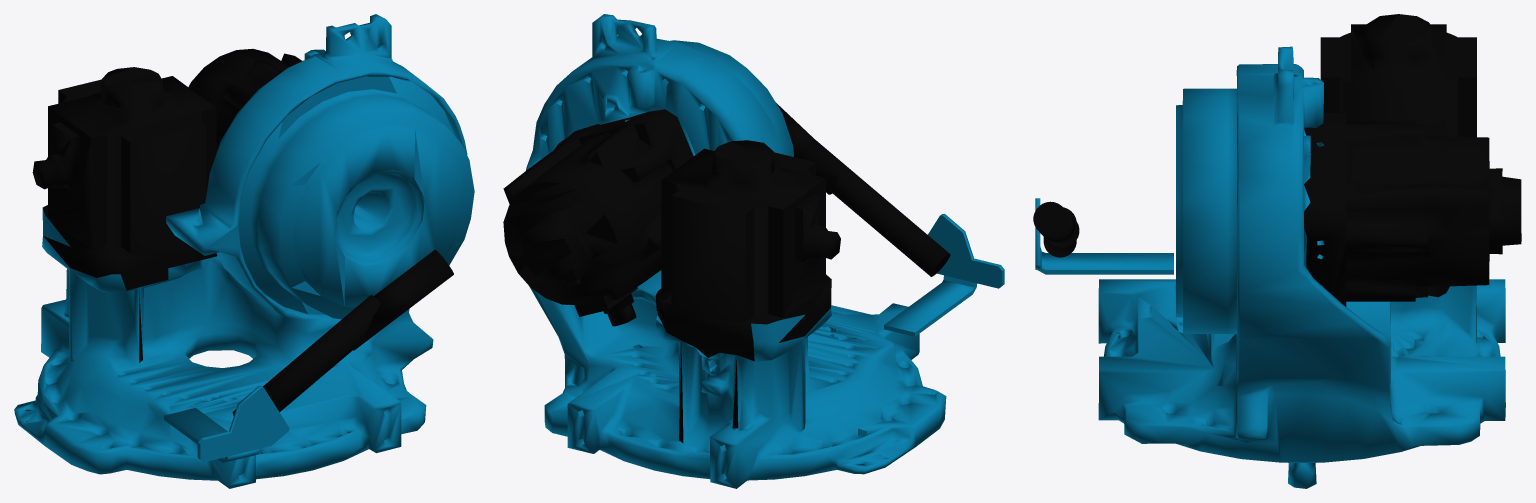
The picture shows the model from 3 angles, left to right: view 1: azimuth 30°, elevation 25°; view 2: azimuth 150°, elevation 25°; view 3: azimuth 270°, elevation 25°; orthographic projection. The views are drawn at different scales.
Parts seen in each view (by area): view 1: mh50-35_lk1, link1, link1.001; view 2: mh50-35_lk1, link1, link1.001; view 3: mh50-35_lk1, link1, link1.001.
Boxes of the visible parts, x1,y1,x2,y2 form: mh50-35_lk1: (14,14,474,488); link1: (164,295,381,462); link1.001: (353,249,453,350); mh50-35_lk1: (503,14,946,488); link1: (798,139,1004,336); link1.001: (776,103,838,194); mh50-35_lk1: (1098,14,1521,488); link1: (1035,198,1173,274); link1.001: (1033,201,1079,247).
Size of the model in its own units: 0.5696 by 0.5622 by 0.5251.
